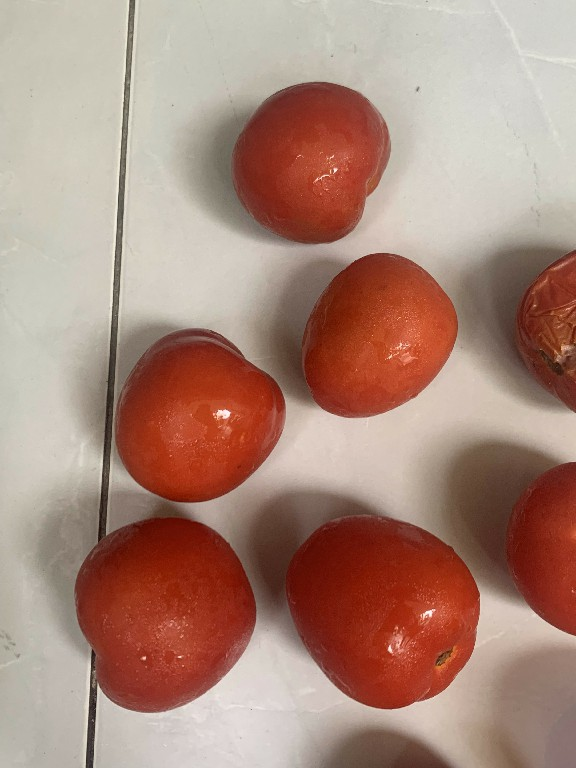NG: (515, 241, 576, 417)
OK: (59, 505, 261, 716), (276, 512, 483, 707), (99, 323, 290, 509), (292, 251, 468, 422), (225, 79, 392, 243), (502, 454, 575, 644)
